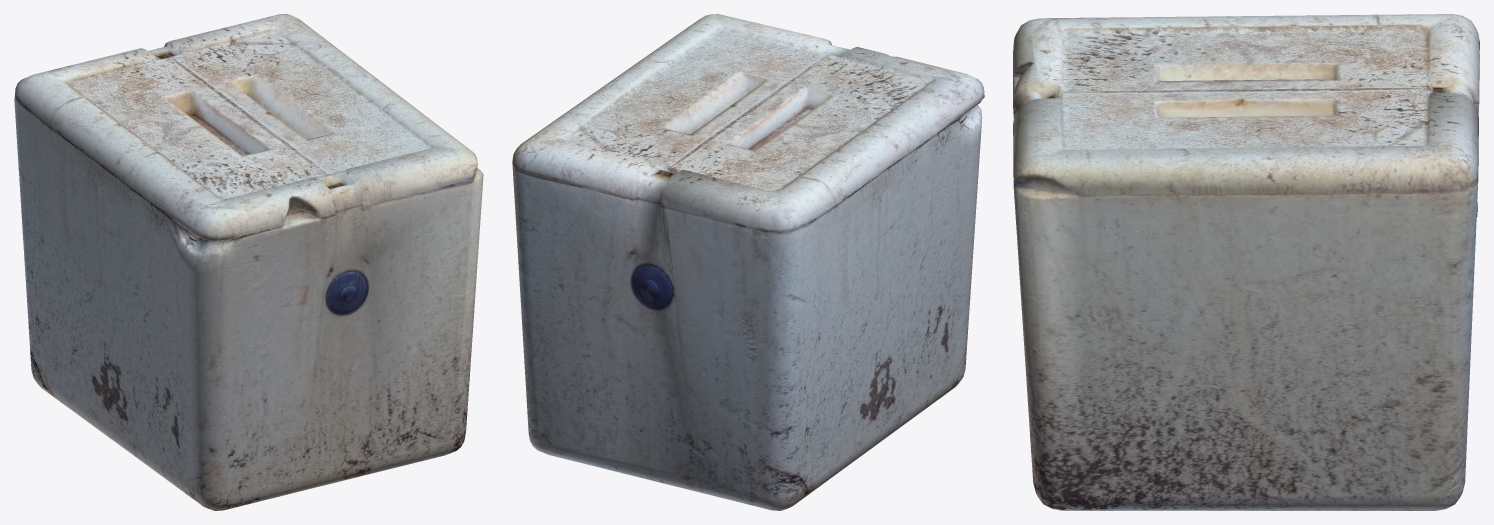
Rendered from foam_cooler.glb.
3 views of the same model, side by side, from view 1: azimuth 30°, elevation 25°; view 2: azimuth 150°, elevation 25°; view 3: azimuth 270°, elevation 25° (orthographic). The views are drawn at different scales.
Parts seen in each view (by area): view 1: FC_LW__0; view 2: FC_LW__0; view 3: FC_LW__0.
Boxes of the visible parts, x1,y1,x2,y2 form: FC_LW__0: (14,14,483,510); FC_LW__0: (512,14,984,510); FC_LW__0: (1013,14,1479,510).
Size of the model in its own units: 0.3359 by 0.35 by 0.4094.
Materials: 1 (1 with a texture image).
